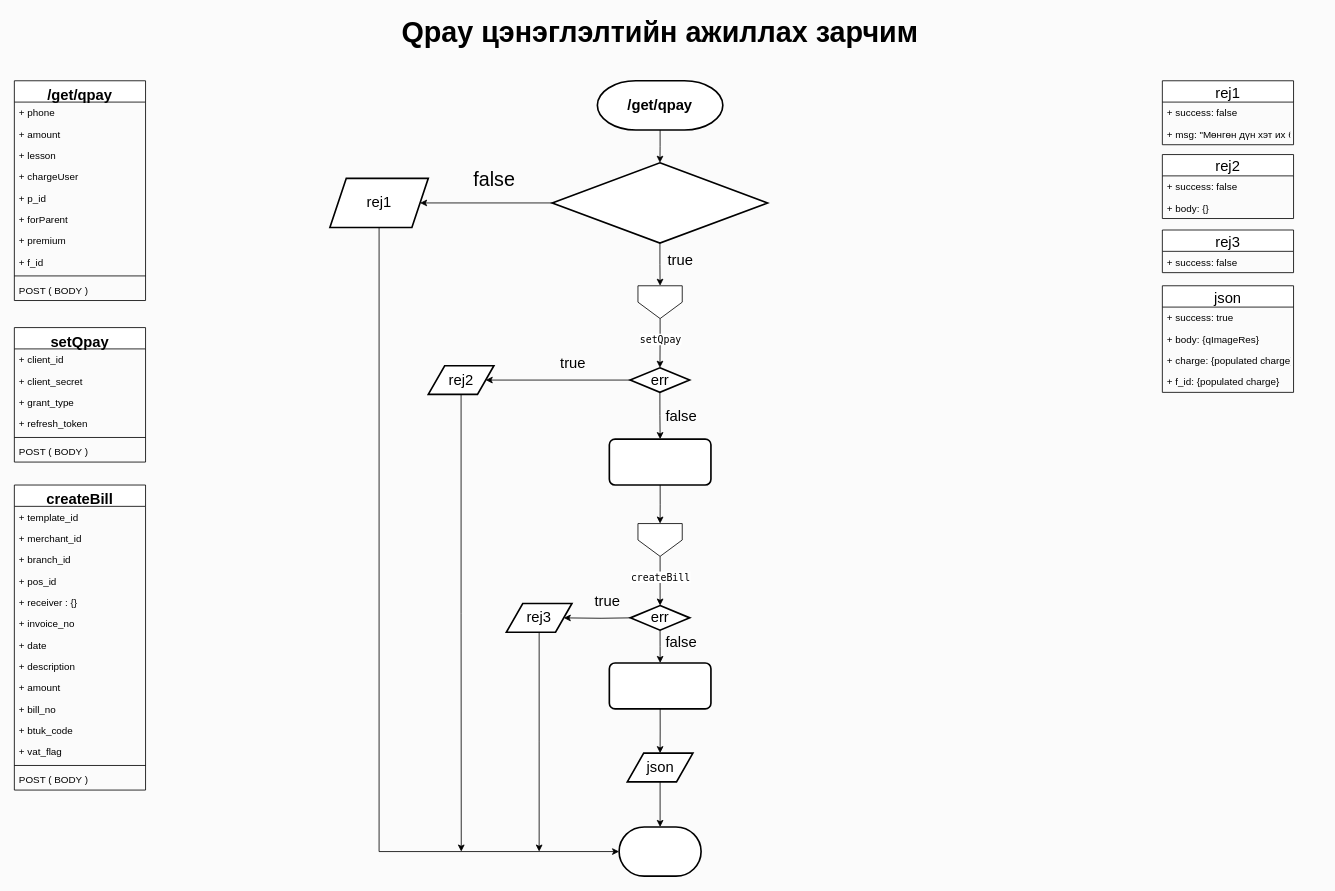
This 1335x891 diagram has some shape labels left out. Here are the shapes that lost their labels. From the top down, the box of each, then its label:
(551, 162, 768, 244): amount <= 999 999 999
(608, 438, 711, 485): create transaction
(608, 662, 711, 709): update transaction
(618, 826, 702, 877): res.json
